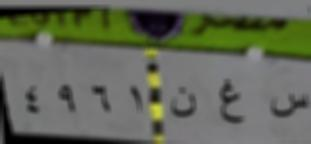1: (125, 81, 147, 120)
4: (21, 80, 42, 121)
6: (91, 78, 112, 119)
9: (55, 82, 78, 120)
ghayn: (211, 74, 247, 129)
noon: (169, 82, 200, 130)
seen: (266, 84, 311, 128)
